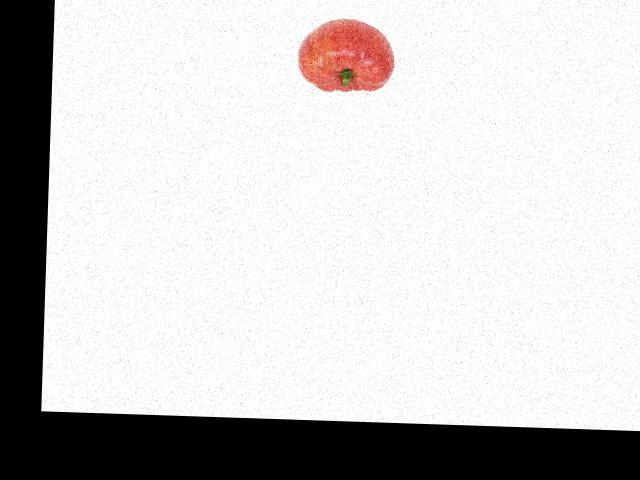tomato: (296, 17, 394, 91)
